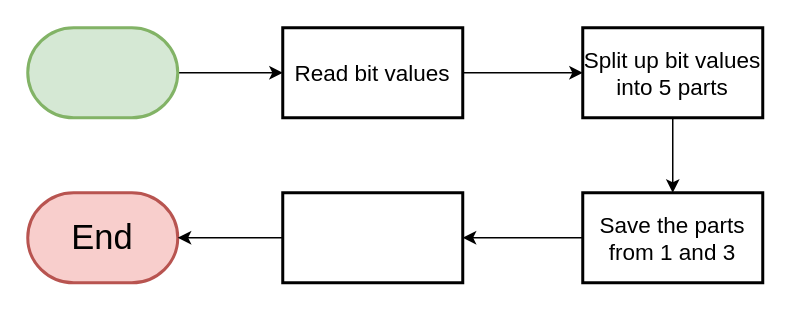
This 789x309 diagram has some shape labels left out. Here are the shapes that lost their labels. From the top down, the centre of each, then its label:
[102,72]: Start
[372,237]: Output to serial
